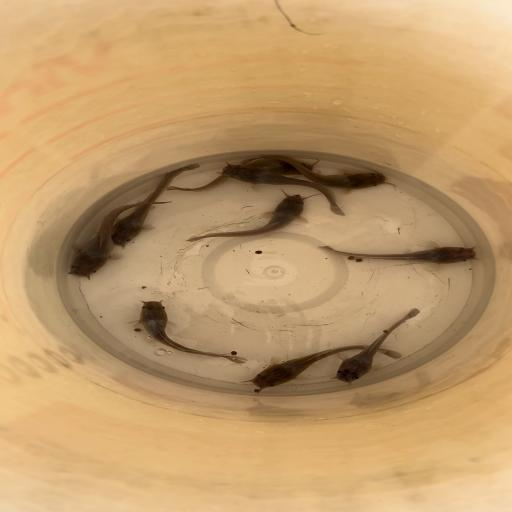lele: (65, 200, 174, 278), (110, 162, 202, 247), (135, 299, 248, 364), (249, 344, 403, 391), (219, 162, 347, 216), (184, 192, 315, 244), (333, 308, 421, 384), (239, 154, 389, 190), (165, 159, 315, 192), (318, 238, 486, 266)
